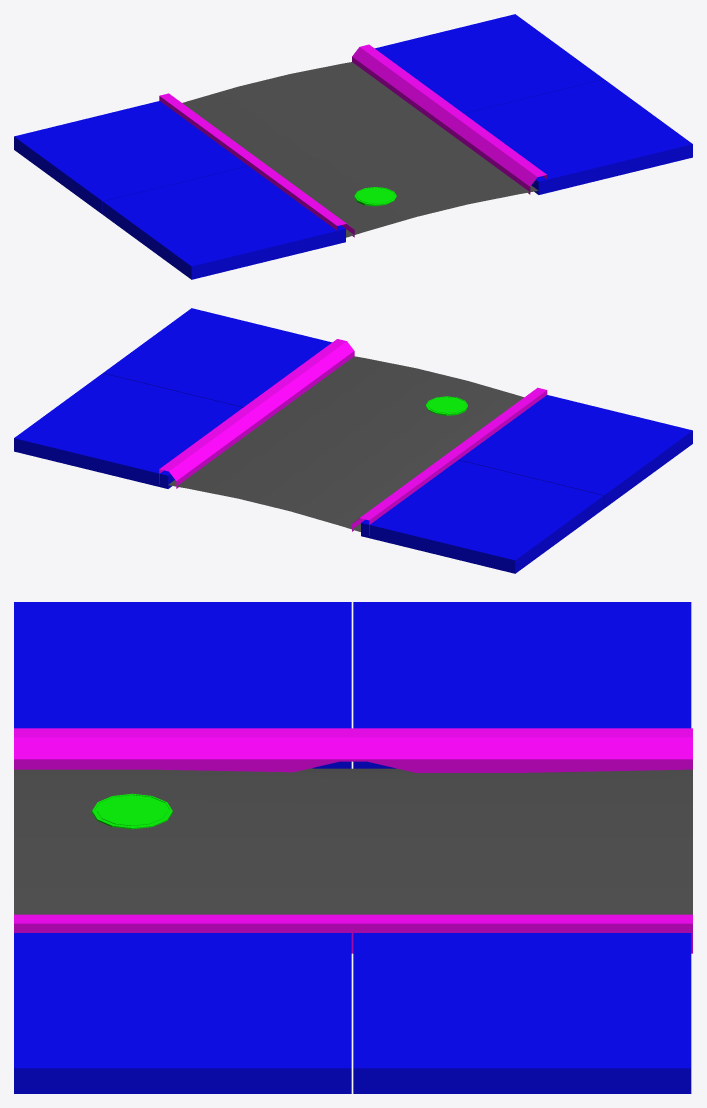
The model's file is SM_Tile_droit_egouts.fbx.
3 renders of one model, top to bottom at view 1: azimuth 30°, elevation 25°; view 2: azimuth 150°, elevation 25°; view 3: azimuth 270°, elevation 25°, orthographic. The views are drawn at different scales.
Parts seen in each view (by area): view 1: SM_Tile_droit_egouts; view 2: SM_Tile_droit_egouts; view 3: SM_Tile_droit_egouts.
Part boxes in pixels (x1,y1,x2,y2): SM_Tile_droit_egouts: (14, 14, 692, 279); SM_Tile_droit_egouts: (14, 308, 692, 573); SM_Tile_droit_egouts: (14, 602, 692, 1093).
Size of the model in its own units: 1300 by 45.19 by 800.
